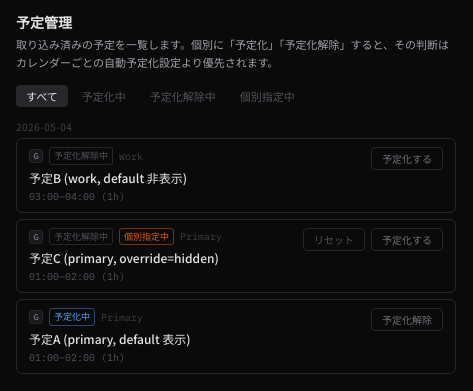
Test case: EventManagement (Issue #145) › 「個別指定中」フィルタで visibility_override !== 'none' のみ
This screenshot has width=473, height=391.
Click the tab "個別指定中" at (267, 96), box [230,85,305,107]
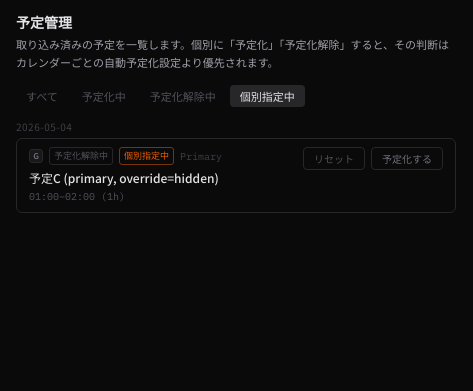
Check: the text "予定C (primary, override=hidden)" is shown, box [29,169,219,186]
Check: the text "予定A" is gone
Check: the text "予定B" is gone
